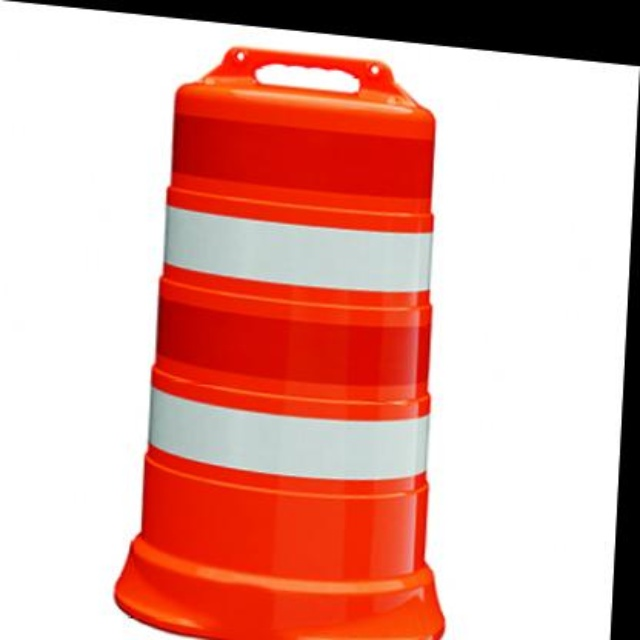obstacle: (129, 53, 494, 640)
